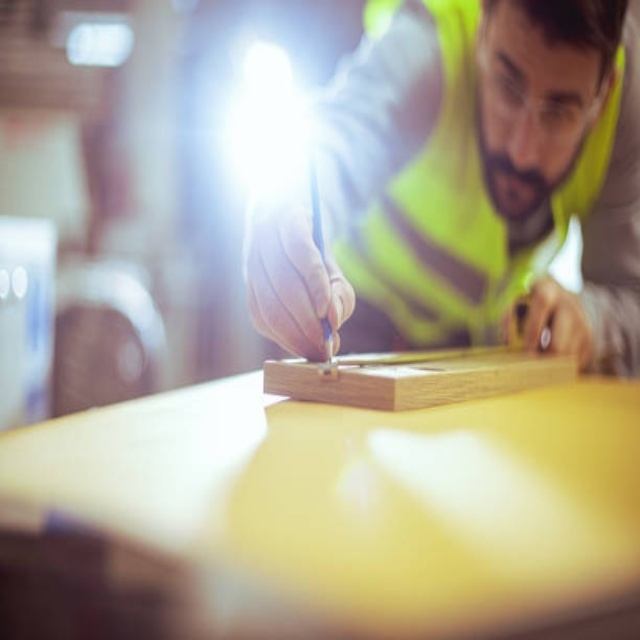Gafas: (481, 33, 603, 144)
Sin_guantes: (245, 198, 355, 361), (508, 274, 596, 372)
Sin_mascara: (492, 147, 541, 215)
